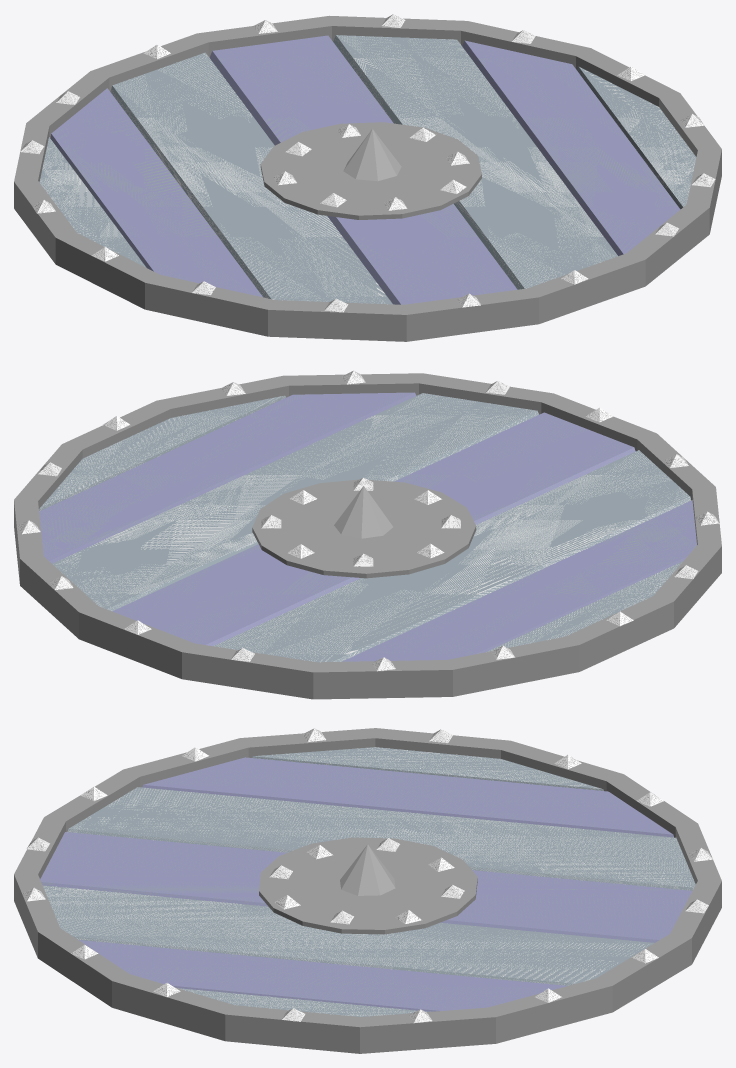
File: Shield2.fbx
The picture shows the model from 3 angles, top to bottom: view 1: azimuth 30°, elevation 25°; view 2: azimuth 150°, elevation 25°; view 3: azimuth 270°, elevation 25°; orthographic projection.
Parts seen in each view (by area): view 1: Group2, Group3, Group4, Group5; view 2: Group2, Group3, Group4, Group5; view 3: Group2, Group3, Group4, Group5.
Part boxes in pixels (bbox=[...]): Group2: bbox=[39, 35, 696, 304]; Group3: bbox=[14, 15, 721, 341]; Group4: bbox=[260, 122, 481, 219]; Group5: bbox=[343, 129, 401, 181]; Group2: bbox=[39, 392, 696, 662]; Group3: bbox=[14, 373, 721, 699]; Group4: bbox=[252, 479, 476, 578]; Group5: bbox=[334, 486, 392, 538]; Group2: bbox=[40, 747, 695, 1016]; Group3: bbox=[14, 728, 721, 1053]; Group4: bbox=[259, 837, 477, 934]; Group5: bbox=[340, 844, 395, 895].
Size of the model in its own units: 720 by 70 by 720.
